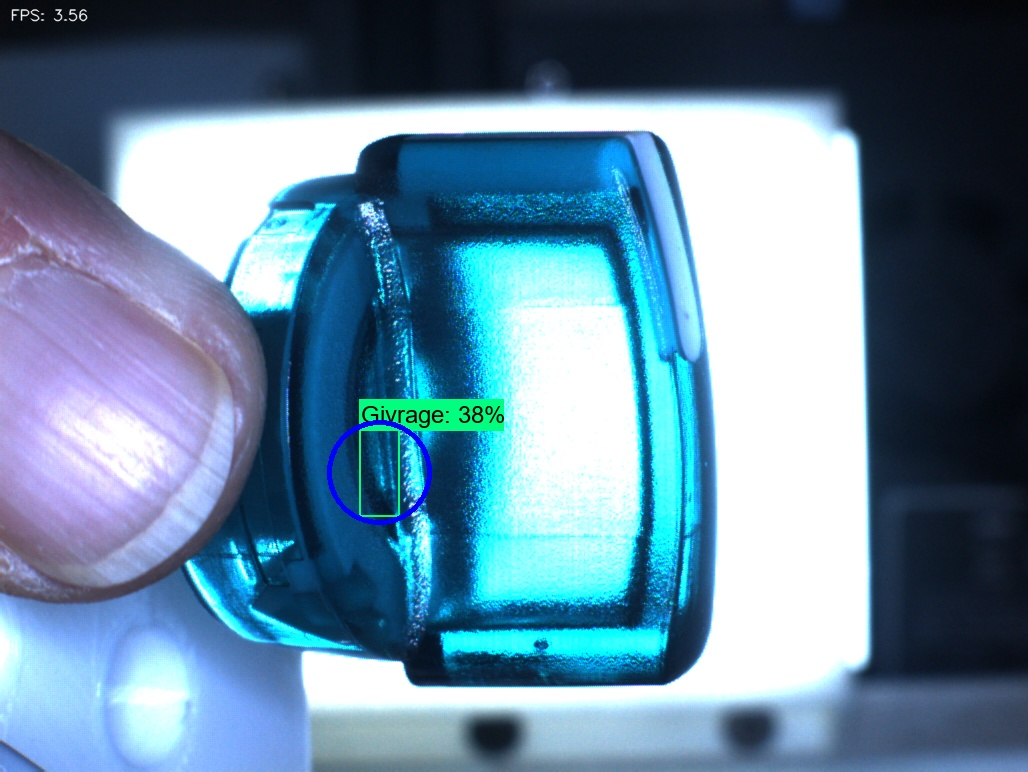Bulle: (502, 623, 584, 698)
